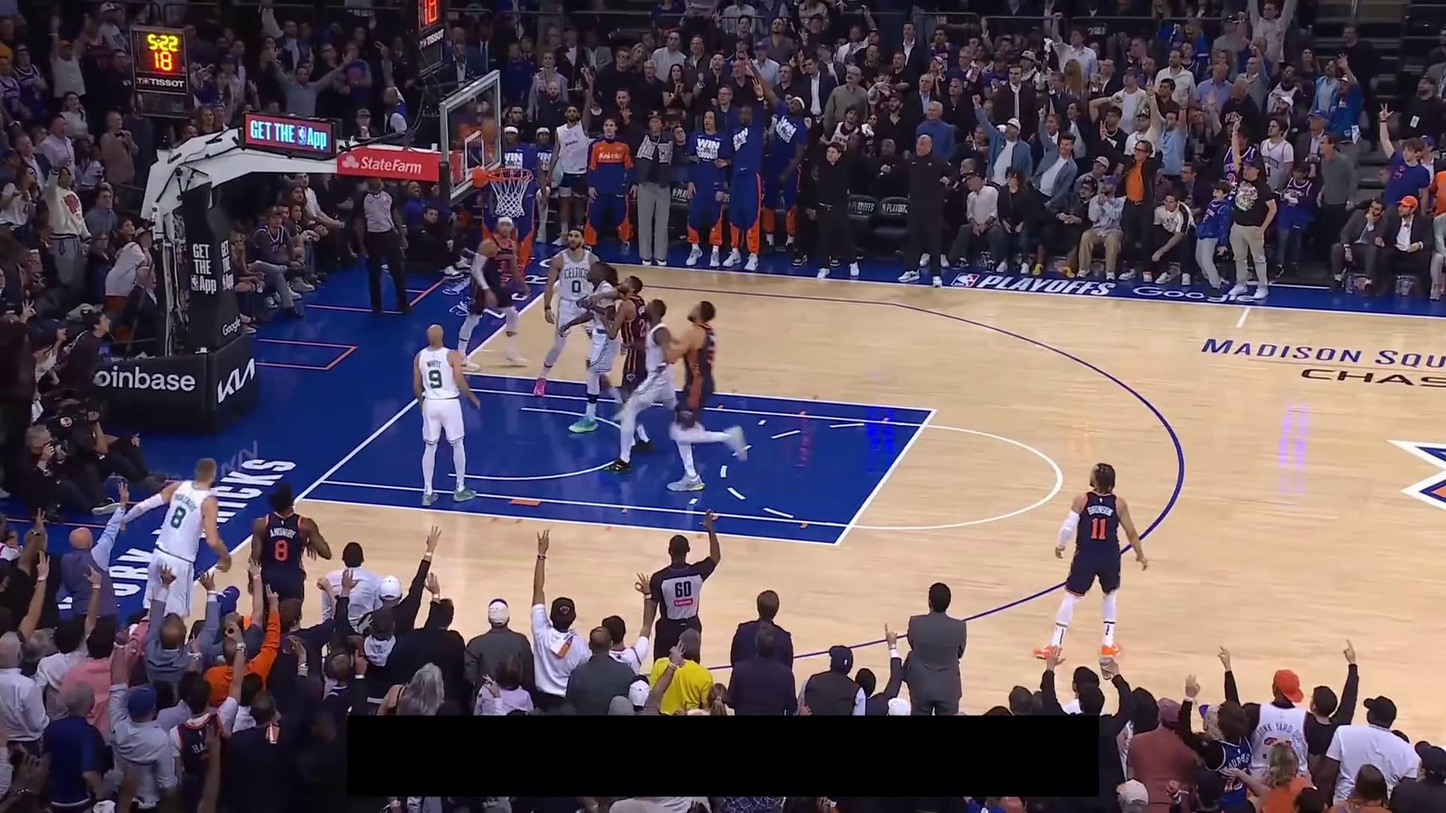ball: (480, 120, 498, 143)
number: (1089, 516, 1109, 541), (169, 504, 186, 530), (426, 368, 443, 391), (272, 539, 289, 562), (572, 279, 581, 294), (497, 260, 506, 273)
player: (1031, 462, 1150, 661), (121, 457, 232, 623), (604, 297, 706, 473), (656, 301, 748, 492), (533, 228, 613, 397), (247, 482, 332, 630), (412, 324, 480, 506), (453, 214, 529, 371), (592, 276, 655, 453), (559, 262, 622, 433)
referee: (641, 505, 725, 666), (353, 174, 416, 315)
rim: (487, 166, 533, 180)
